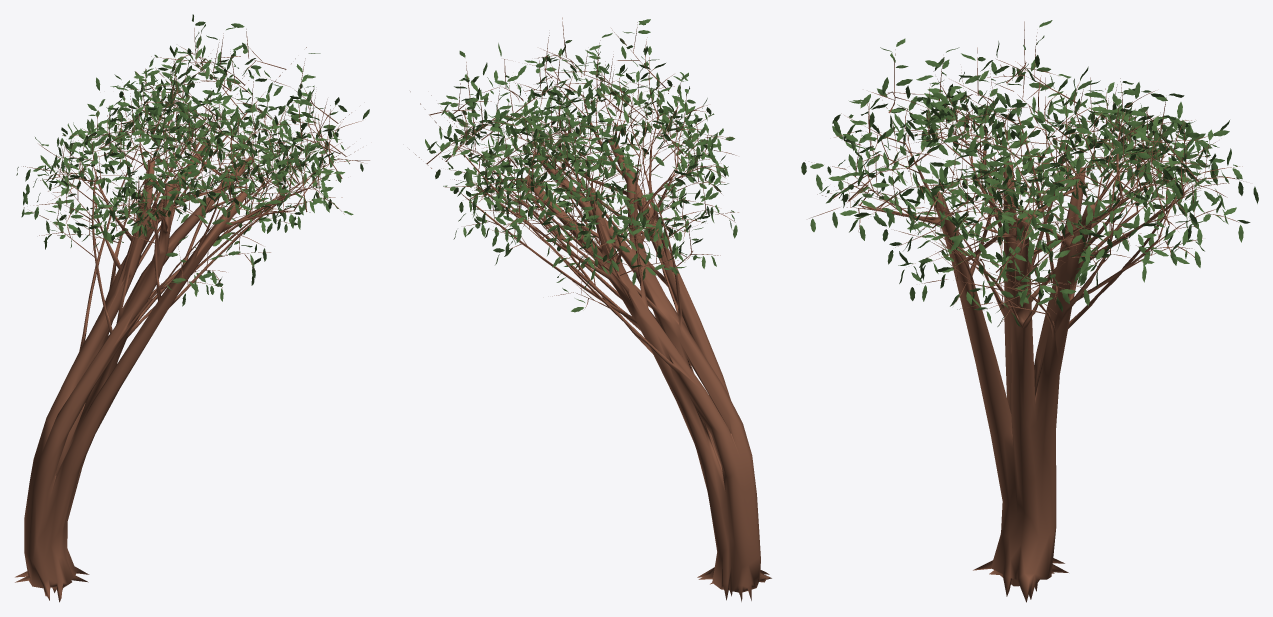
Rendered from ArbousierCanopee_1_Niveau0.fbx.
3 renders of one model, left to right at view 1: azimuth 30°, elevation 25°; view 2: azimuth 150°, elevation 25°; view 3: azimuth 270°, elevation 25°, orthographic. The views are drawn at different scales.
Visible parts, largest first — view 1: ArbousierCanopee_1_Niveau0; view 2: ArbousierCanopee_1_Niveau0; view 3: ArbousierCanopee_1_Niveau0.
Boxes of the visible parts, <box> form: ArbousierCanopee_1_Niveau0: <box>15,14,369,602</box>; ArbousierCanopee_1_Niveau0: <box>409,17,771,601</box>; ArbousierCanopee_1_Niveau0: <box>801,20,1258,602</box>.
Bounding box in the file's own units: 287 × 407 × 264.
